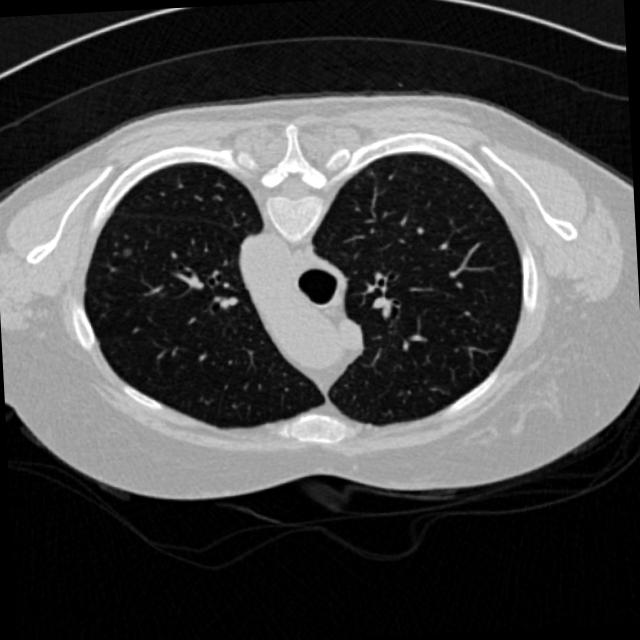nodule: (117, 242, 141, 266)
